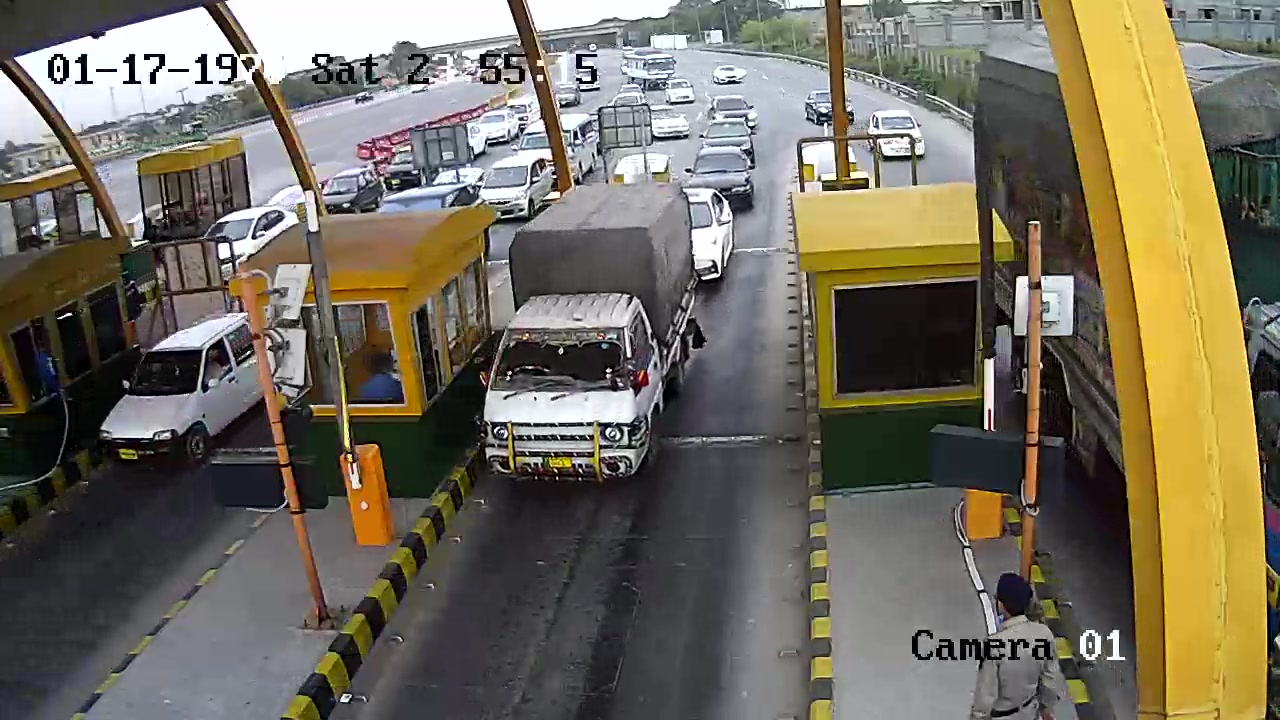F3: (469, 175, 699, 516)
